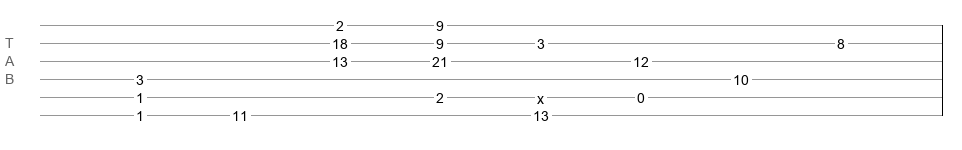0: (637, 90, 645, 100)
1: (136, 108, 144, 118), (136, 90, 144, 100)
10: (733, 72, 749, 82)
11: (232, 108, 248, 118)
12: (633, 54, 649, 64)
13: (332, 54, 348, 64), (533, 108, 549, 118)
18: (332, 36, 348, 46)
2: (336, 18, 344, 28), (436, 90, 444, 100)
21: (432, 54, 448, 64)
3: (136, 72, 144, 82), (537, 36, 545, 46)
8: (837, 36, 845, 46)
9: (436, 36, 444, 46), (436, 18, 444, 28)
x: (537, 91, 544, 99)
